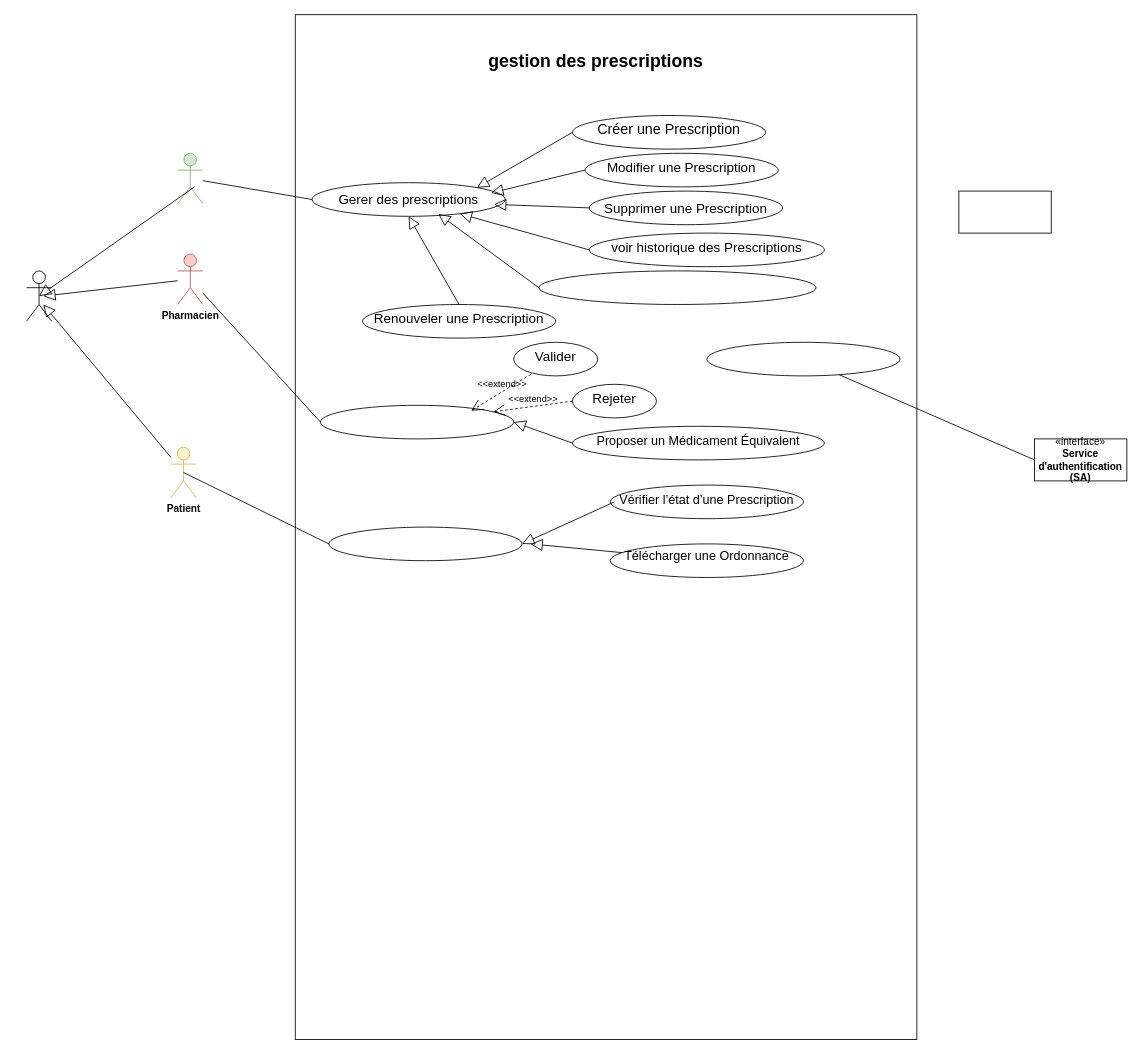
The diagram is 1142 pixels wide and 1054 high, and some of its shapes have lost their labels. The box of each missing label's shape, as (x1, y1, x2, y2) in pixels:
Assigner une Prescription à une Pharmacie: (538, 270, 816, 304)
Authentification: (706, 341, 900, 376)
Lister prescriptions: (328, 526, 522, 561)
Medecin: (177, 152, 203, 204)
Traiter les Prescriptions: (320, 404, 514, 439)
Utilisateur: (26, 270, 52, 321)
«interface» Service de notification: (958, 190, 1051, 233)
